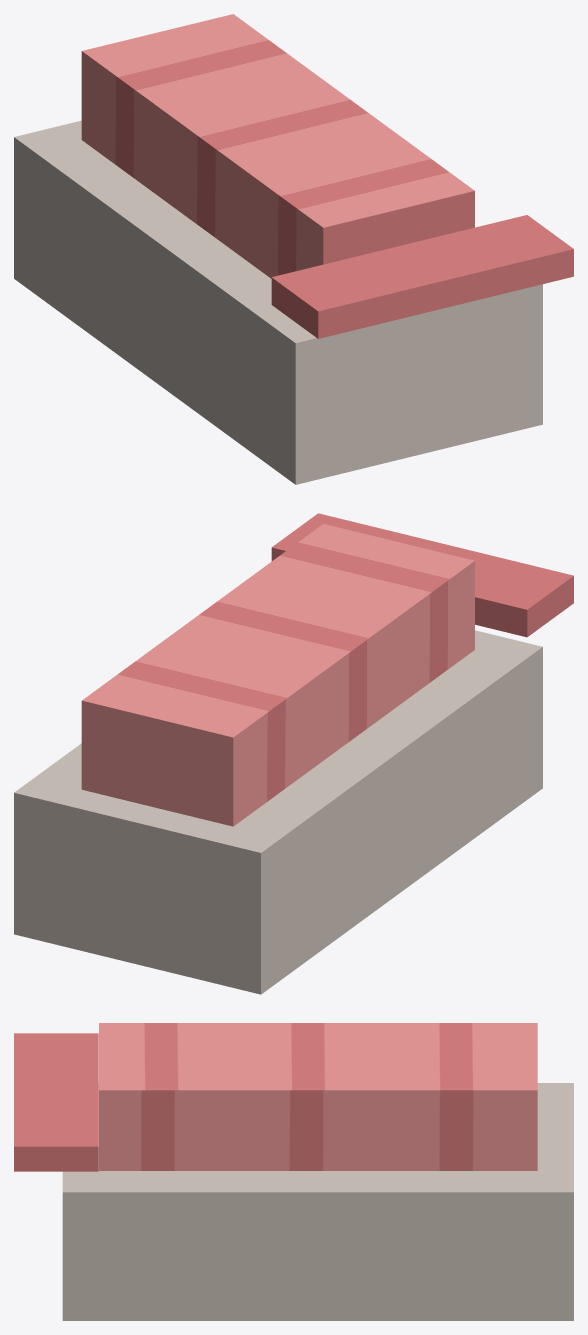
File: Sushi-15.fbx
3 views of the same model, one above another, from view 1: azimuth 30°, elevation 25°; view 2: azimuth 150°, elevation 25°; view 3: azimuth 270°, elevation 25° (orthographic). The views are drawn at different scales.
Parts seen in each view (by area): view 1: Cube.001; view 2: Cube.001; view 3: Cube.001.
Part boxes in pixels (x1,y1,x2,y2): Cube.001: (14, 14, 573, 484); Cube.001: (14, 513, 573, 994); Cube.001: (14, 1023, 573, 1320).
Size of the model in its own units: 203 by 175 by 424.
1 material, 1 textured.
